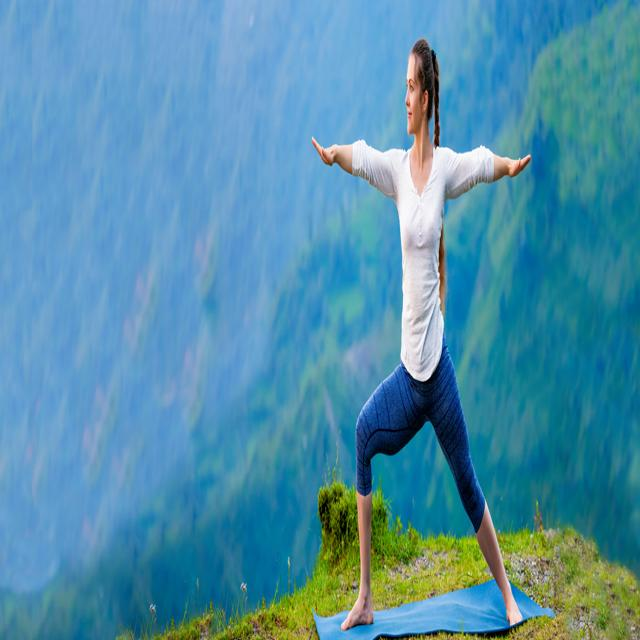Warrior_II: (303, 38, 528, 625)
